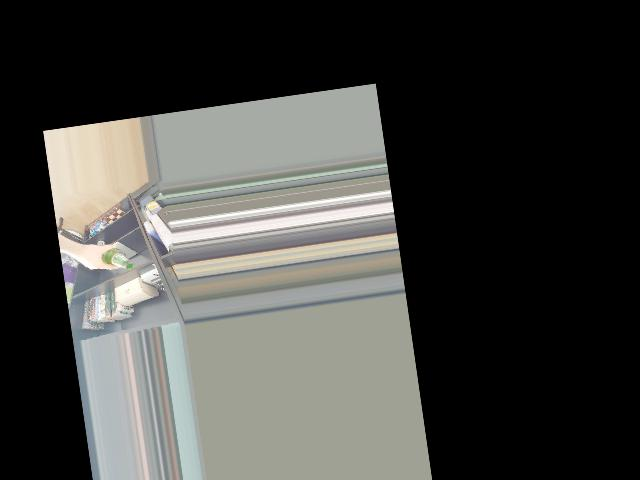beer: (97, 240, 134, 273)
